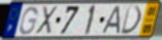1: (83, 4, 97, 36)
7: (58, 6, 82, 37)
A: (99, 5, 122, 35)
D: (120, 5, 143, 36)
G: (18, 5, 39, 36)
X: (34, 6, 59, 37)
